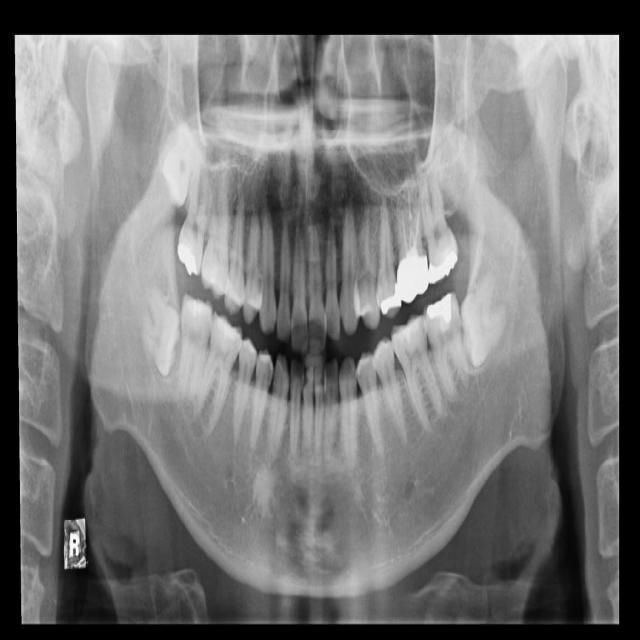Crown: (397, 247, 429, 303)
Filling: (428, 223, 458, 285), (425, 293, 458, 330), (380, 285, 404, 318), (177, 241, 196, 273)
Periapical lesion: (446, 378, 479, 413)
Root Canal Treatment: (408, 191, 413, 250), (402, 211, 408, 253), (413, 211, 419, 251)
impacted tooth: (460, 263, 510, 365), (159, 120, 197, 208), (143, 286, 180, 373)
